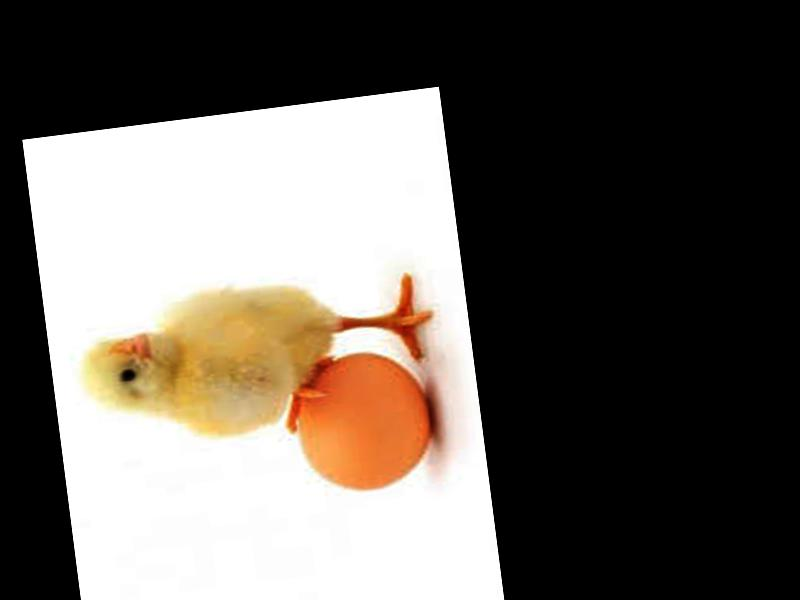Eggs: (283, 343, 437, 500)
